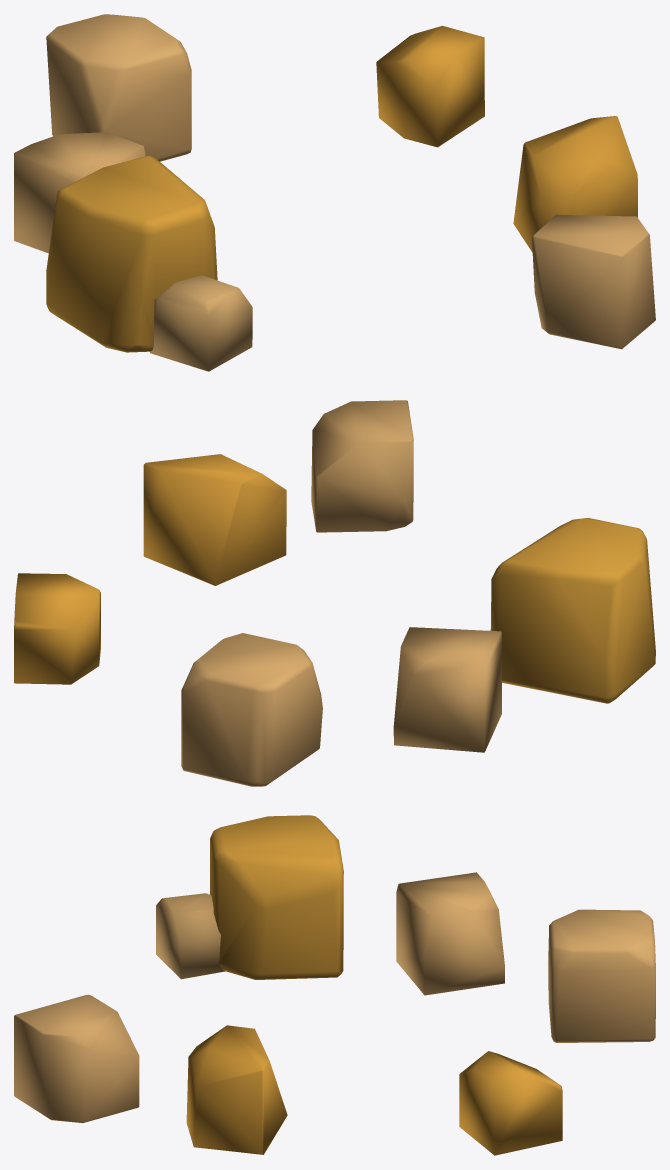
The model's file is den_gc_crumbs_lod1.glb.
The picture shows the model from 3 angles, top to bottom: view 1: azimuth 30°, elevation 25°; view 2: azimuth 150°, elevation 25°; view 3: azimuth 270°, elevation 25°; orthographic projection. The views are drawn at different scales.
Visible parts, largest first — view 1: den_gc_crumbs.001; view 2: den_gc_crumbs.001; view 3: den_gc_crumbs.001.
Boxes of the visible parts, x1,y1,x2,y2 form: den_gc_crumbs.001: (14, 14, 655, 371); den_gc_crumbs.001: (14, 400, 655, 786); den_gc_crumbs.001: (14, 815, 655, 1155).
Bounding box in the file's own units: 1.56 × 0.372 × 1.85.
